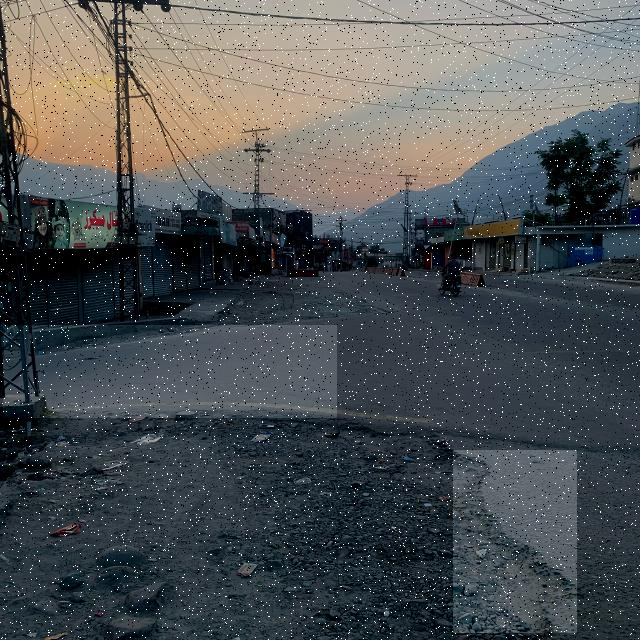damaged: (453, 450, 578, 633)
left: (3, 325, 337, 418)
